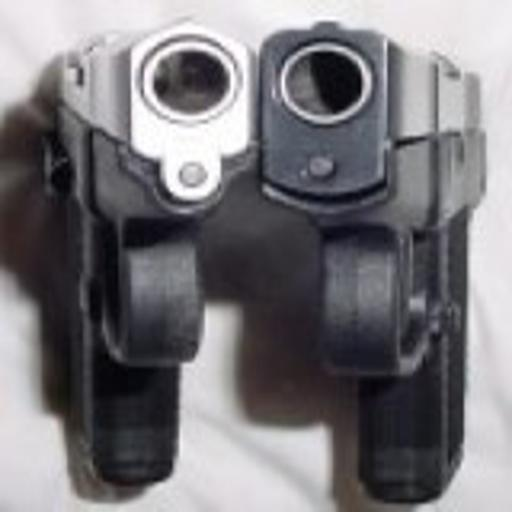Handgun: (255, 3, 485, 502), (31, 16, 261, 493)
